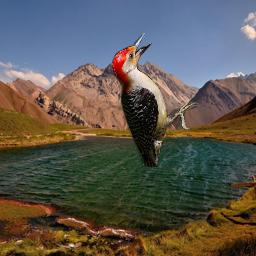Woodpecker: (112, 33, 200, 167)
